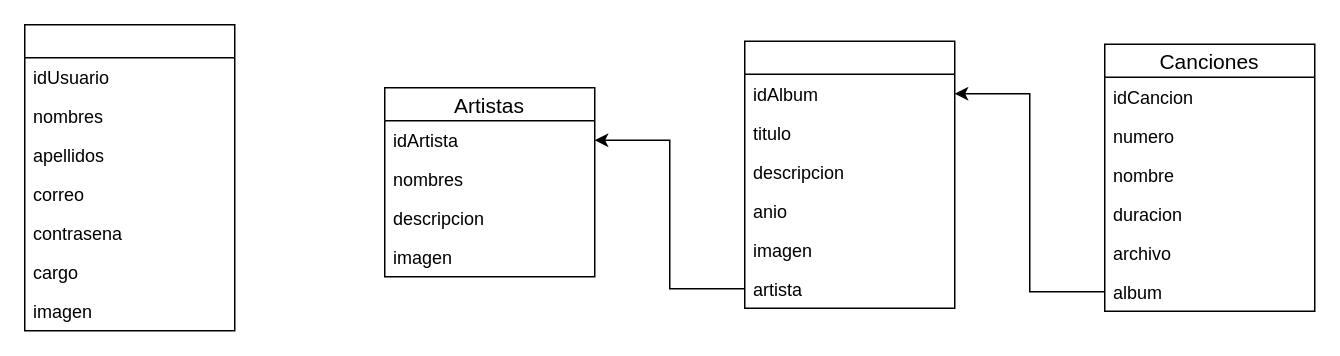
The diagram is 1340 pixels wide and 356 high, and some of its shapes have lost their labels. The shapes that lost their labels are listed below. From the top down, each one's box as (x1, y1, x2, y2) in pixels, then its label:
(23, 23, 235, 331): Usuarios
(743, 40, 955, 308): Albumes
